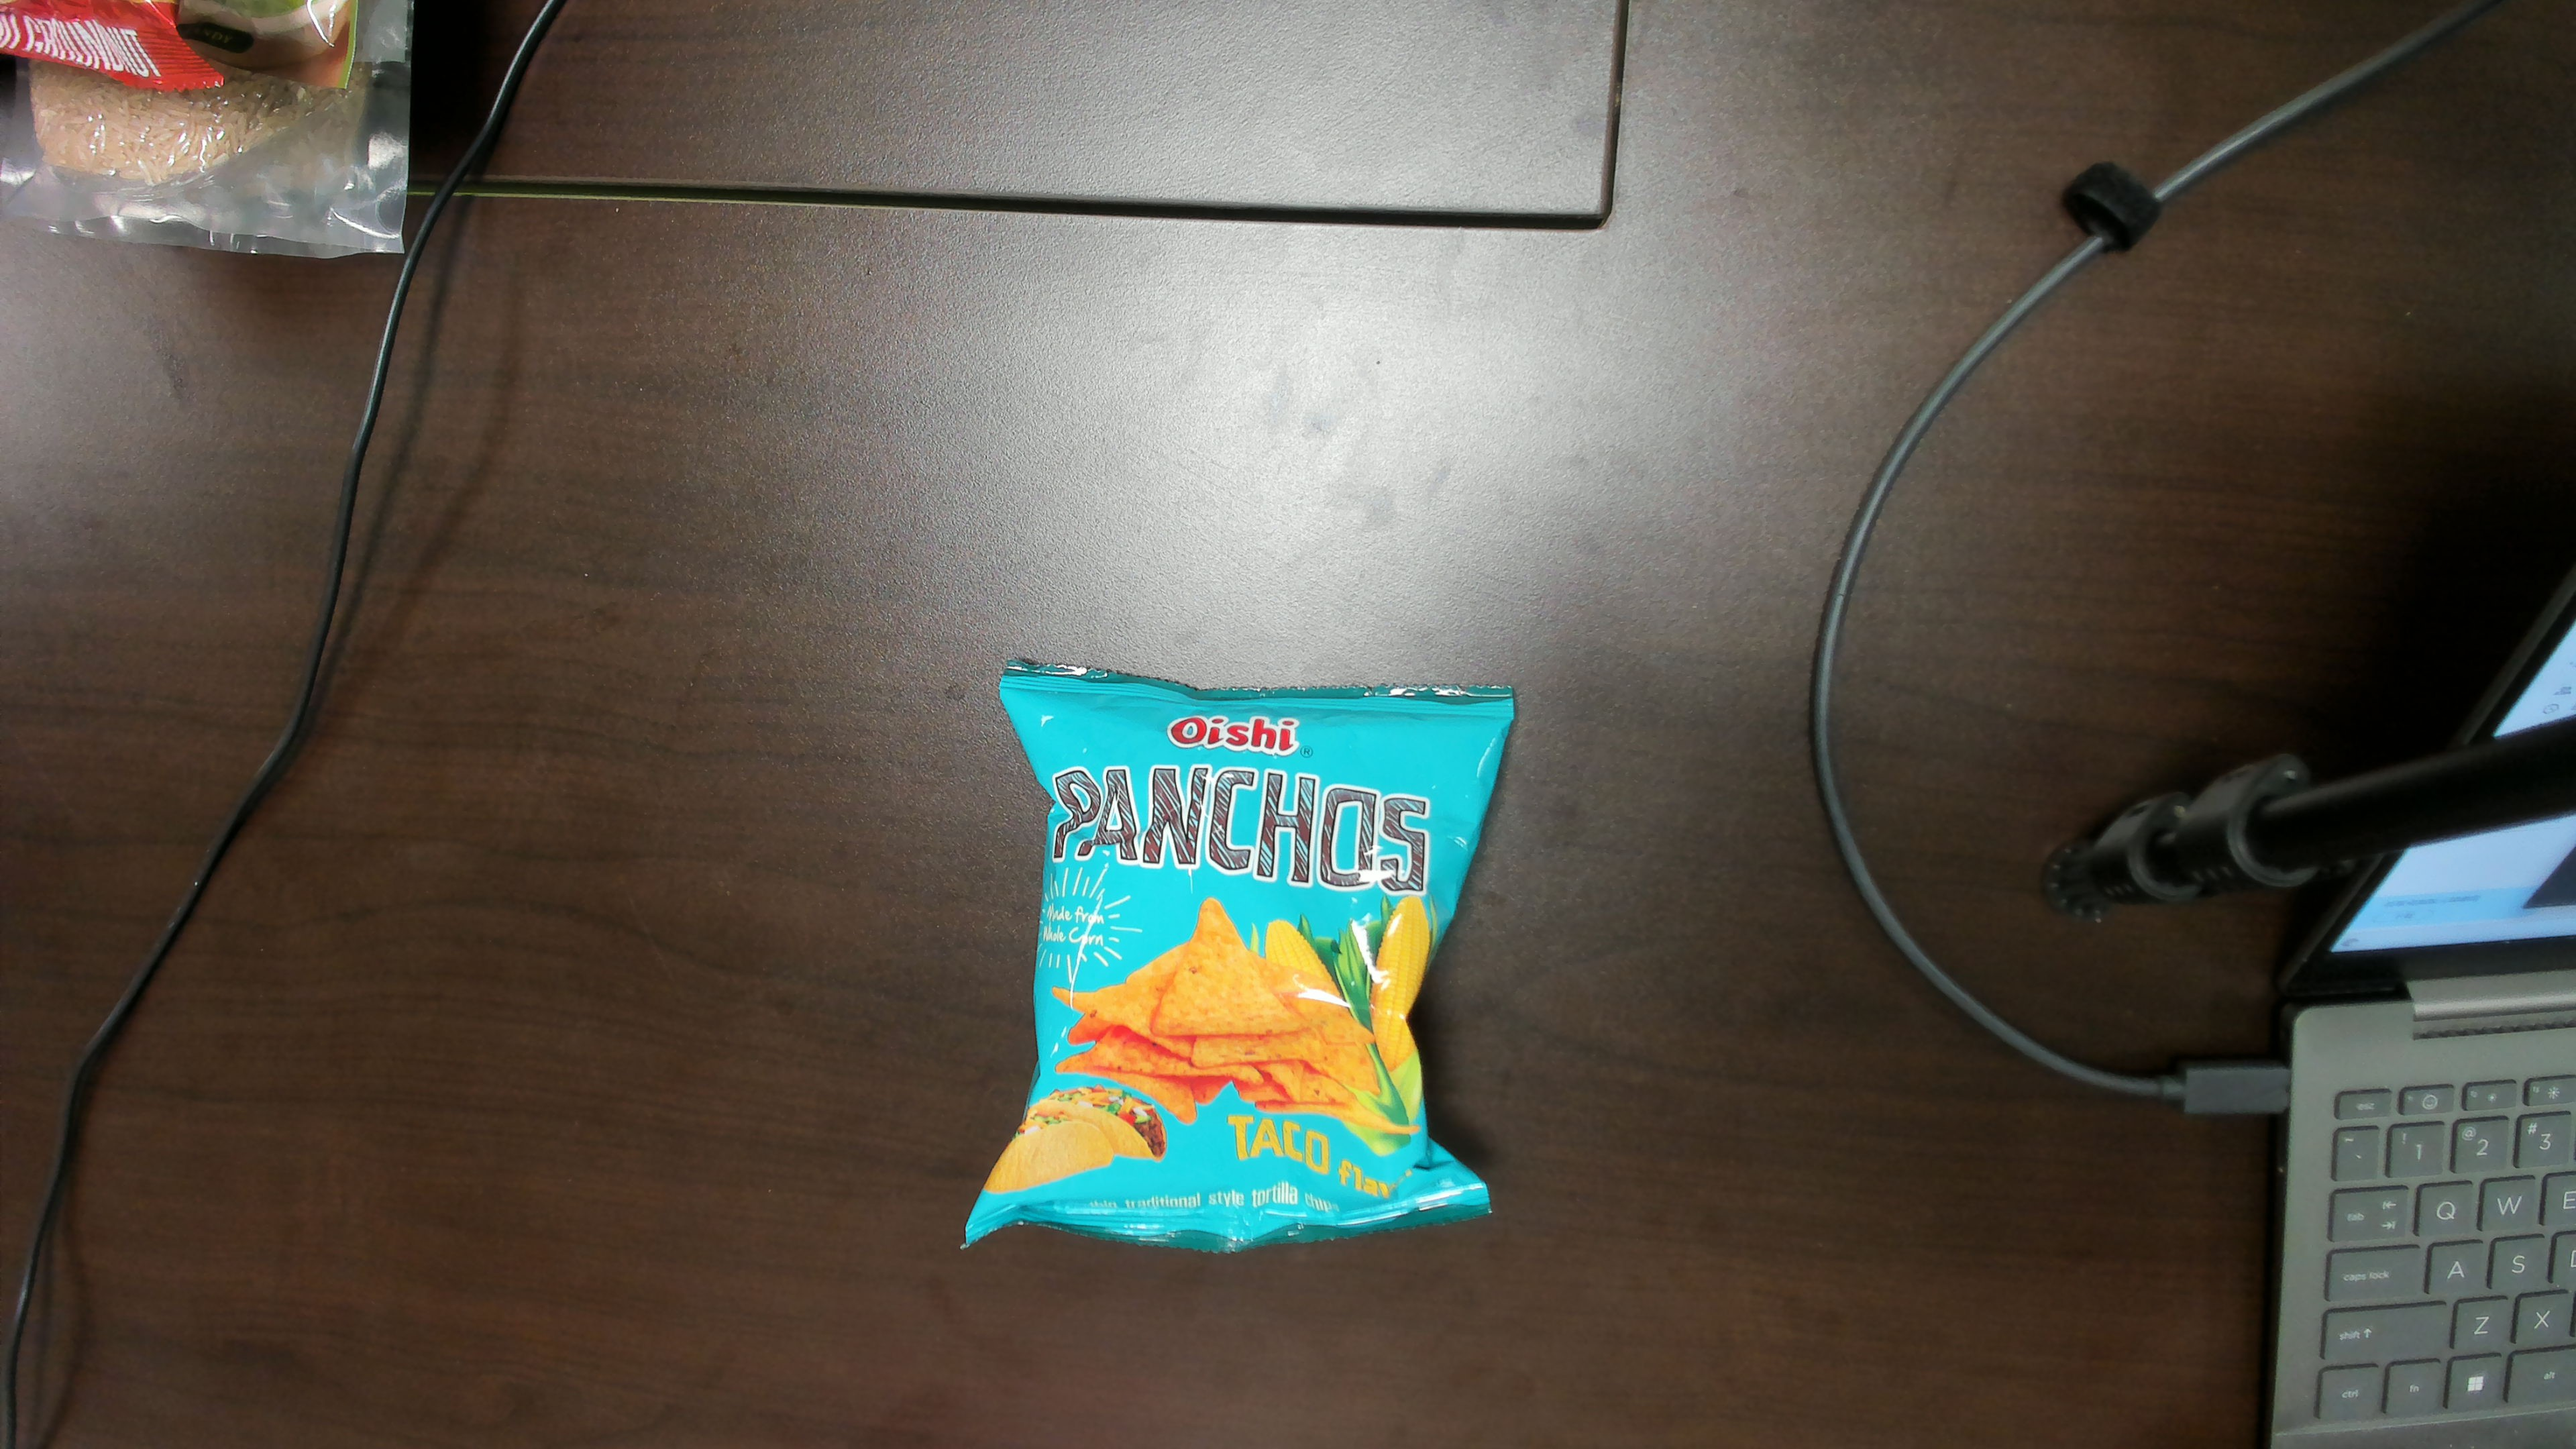PotatochipsKeropok_1-99g_NonHalal_NonHealthy: (1042, 686, 1421, 1224)
